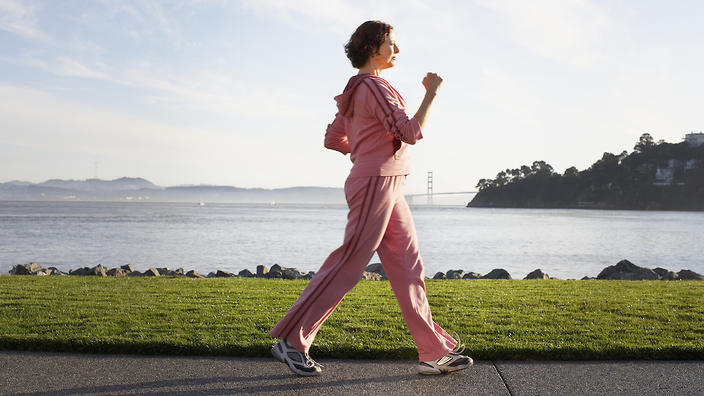feet: (269, 313, 479, 381)
